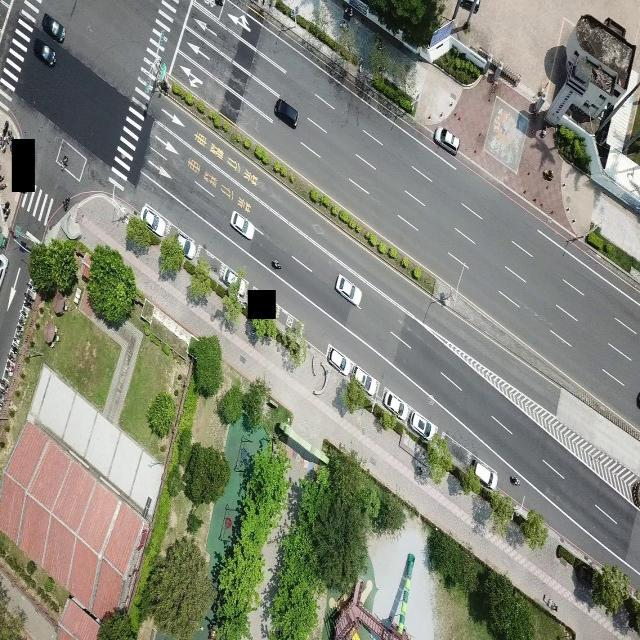car: (334, 272, 362, 306), (351, 362, 377, 397), (407, 408, 435, 440), (472, 455, 498, 489), (142, 201, 165, 238), (273, 96, 299, 128), (40, 11, 66, 43), (381, 387, 406, 420), (230, 209, 254, 240), (326, 343, 349, 375), (434, 126, 459, 154), (176, 229, 195, 260), (220, 265, 238, 285)
